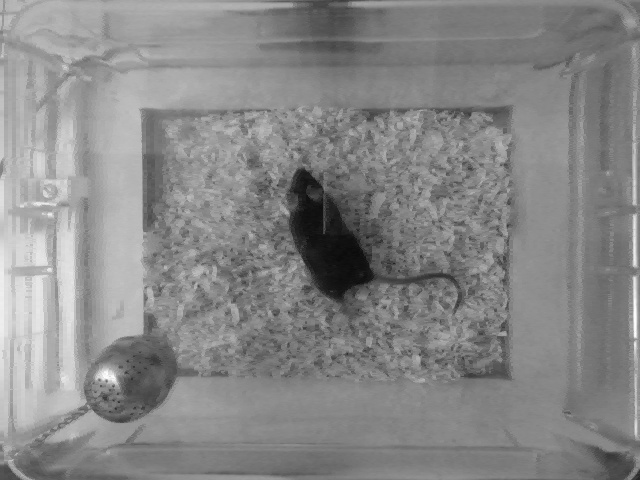mice: (284, 165, 464, 315)
